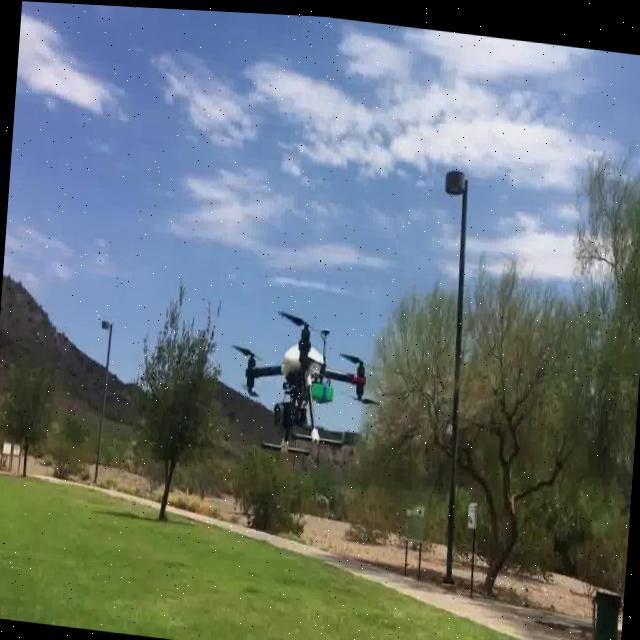drone: (235, 303, 376, 459)
